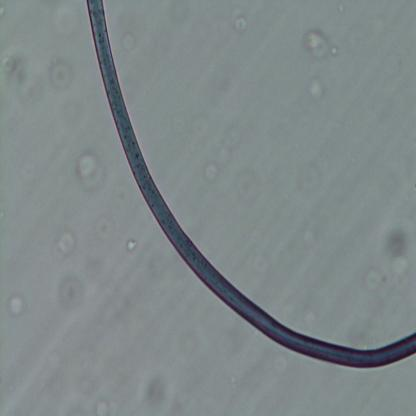Background material: (57, 273, 86, 309), (149, 365, 173, 405), (384, 224, 412, 258), (79, 152, 104, 190), (358, 264, 386, 295), (2, 56, 26, 90), (304, 71, 326, 108), (306, 30, 331, 62), (50, 58, 72, 92), (8, 293, 27, 318), (58, 231, 76, 253), (121, 32, 140, 50), (94, 398, 112, 414), (124, 236, 139, 254), (235, 14, 247, 35), (204, 166, 219, 182), (329, 44, 337, 57), (338, 4, 345, 16)
Microfibre: (85, 1, 416, 367)
